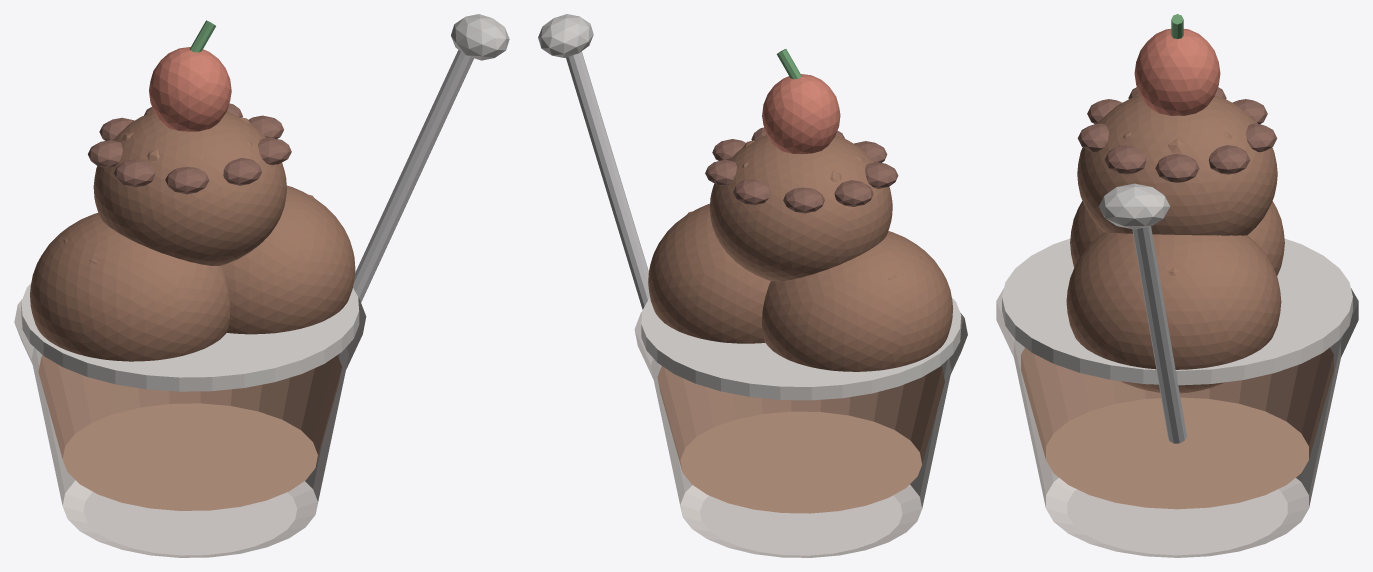
File: sundae_choco.glb
3 renders of one model, left to right at view 1: azimuth 30°, elevation 25°; view 2: azimuth 150°, elevation 25°; view 3: azimuth 270°, elevation 25°, orthographic. The views are drawn at different scales.
Parts seen in each view (by area): view 1: obj_0002, obj_0003, obj_0019, obj_0000, obj_0011, obj_0001, obj_0036, obj_0038, obj_0039, obj_0030, obj_0031, obj_0029 (+2 smaller); view 2: obj_0002, obj_0003, obj_0019, obj_0000, obj_0001, obj_0011, obj_0036, obj_0038, obj_0039, obj_0033, obj_0032, obj_0034 (+2 smaller); view 3: obj_0002, obj_0011, obj_0001, obj_0019, obj_0000, obj_0036, obj_0038, obj_0003, obj_0039, obj_0027, obj_0028, obj_0035 (+4 smaller).
Boxes of the visible parts, x1,y1,x2,y2 form: obj_0002: [38, 355, 341, 510]; obj_0003: [30, 213, 229, 361]; obj_0019: [93, 111, 286, 265]; obj_0000: [14, 297, 366, 557]; obj_0011: [221, 185, 355, 334]; obj_0001: [21, 283, 359, 391]; obj_0036: [149, 47, 231, 131]; obj_0038: [353, 50, 473, 302]; obj_0039: [451, 14, 509, 60]; obj_0030: [165, 167, 209, 194]; obj_0031: [113, 159, 155, 187]; obj_0029: [223, 158, 262, 185]; obj_0002: [657, 366, 944, 513]; obj_0003: [762, 231, 953, 371]; obj_0019: [709, 135, 892, 281]; obj_0000: [634, 311, 967, 557]; obj_0001: [641, 297, 961, 400]; obj_0011: [648, 203, 770, 343]; obj_0036: [762, 74, 840, 154]; obj_0038: [566, 51, 649, 309]; obj_0039: [538, 14, 593, 57]; obj_0033: [783, 187, 824, 213]; obj_0032: [834, 180, 873, 206]; obj_0034: [733, 179, 769, 205]; obj_0002: [1021, 347, 1333, 509]; obj_0011: [1066, 232, 1281, 393]; obj_0001: [1002, 238, 1352, 385]; obj_0019: [1077, 95, 1277, 235]; obj_0000: [996, 288, 1358, 557]; obj_0036: [1134, 29, 1220, 115]; obj_0038: [1132, 226, 1186, 443]; obj_0003: [1070, 201, 1284, 275]; obj_0039: [1099, 183, 1170, 229]; obj_0027: [1155, 153, 1199, 182]; obj_0028: [1104, 145, 1145, 174]; obj_0035: [1209, 145, 1250, 174].
Size of the model in its own units: 1.49 by 1.55 by 1.01.
